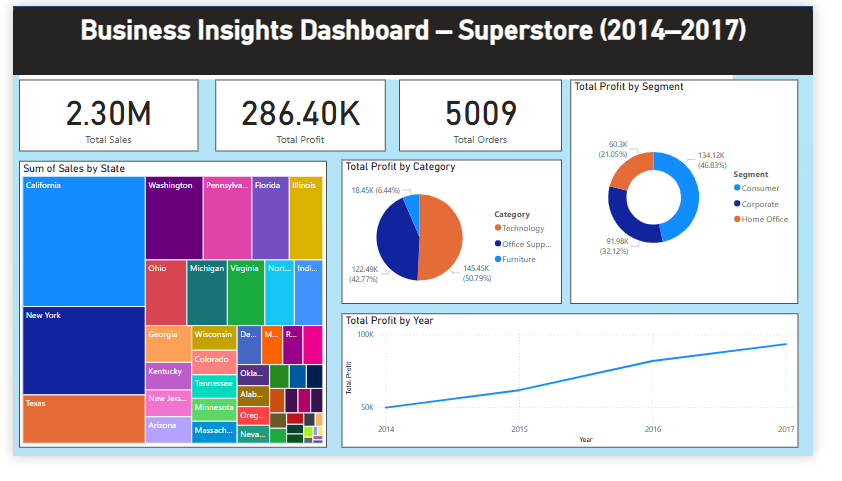

The page's visual inventory and layout, read from the dashboard file:
{"tool":"powerbi","page":{"name":"Page 1","canvas":[1280,720],"ordinal":0},"visuals":[{"type":"textbox","box":[10,0,1141.2,117.5],"z":0},{"type":"shape","box":[0,0,1280,102],"z":1000},{"type":"card","fields":{"Values":["Sample - Superstore.Total Sales"]},"box":[10,118,286,114],"z":2000},{"type":"card","fields":{"Values":["Sample - Superstore.Total Profit"]},"box":[324,118,272,114],"z":3000},{"type":"card","fields":{"Values":["Sample - Superstore.Total Orders"]},"box":[618,118,260,114],"z":4000},{"type":"treemap","fields":{"Values":["Sum(Sample - Superstore.Sales)"],"Group":["Sample - Superstore.State"]},"box":[10,248,492,458],"z":5000},{"type":"donutChart","fields":{"Category":["Sample - Superstore.Segment"],"Y":["Sample - Superstore.Total Profit"]},"box":[892,118,364,358],"z":6000},{"type":"lineChart","fields":{"Y":["Sample - Superstore.Total Profit"],"Category":["Sample - Superstore.Year"]},"box":[526,492,730,214],"z":7000},{"type":"pieChart","fields":{"Category":["Sample - Superstore.Category"],"Y":["Sample - Superstore.Total Profit"]},"box":[526,246,352,230],"z":8000},{"type":"textbox","box":[0,8,1280,102],"z":9000}]}

Visuals, with their boxes in screenshot pixels (x1, y1, x2, y2), scaled from the page's 1280x720 canvas onto the 842x481 screenshot:
textbox: detection(7, 0, 757, 78)
shape: detection(0, 0, 841, 68)
card - Sample - Superstore.Total Sales: detection(7, 79, 195, 155)
card - Sample - Superstore.Total Profit: detection(213, 79, 392, 155)
card - Sample - Superstore.Total Orders: detection(407, 79, 578, 155)
treemap - Sum(Sample - Superstore.Sales) x Sample - Superstore.State: detection(7, 166, 330, 472)
donutChart - Sample - Superstore.Segment x Sample - Superstore.Total Profit: detection(587, 79, 826, 318)
lineChart - Sample - Superstore.Total Profit x Sample - Superstore.Year: detection(346, 329, 826, 472)
pieChart - Sample - Superstore.Category x Sample - Superstore.Total Profit: detection(346, 164, 578, 318)
textbox: detection(0, 5, 841, 73)
